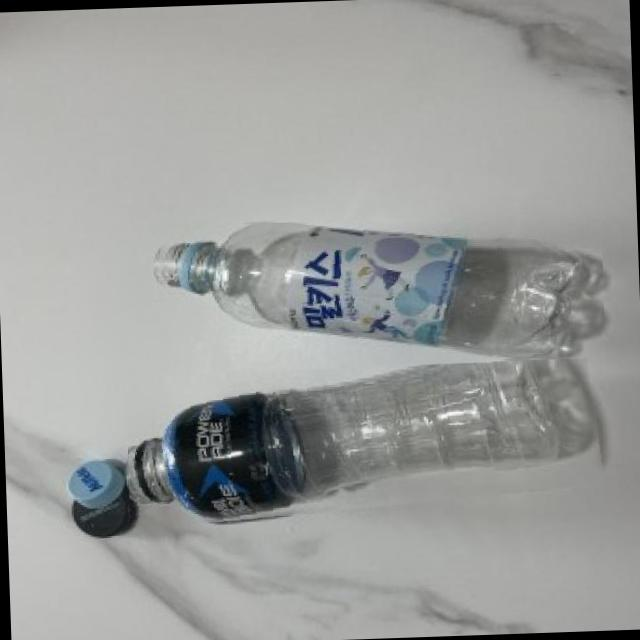plastic bottle: (125, 356, 606, 528), (148, 210, 606, 375)
